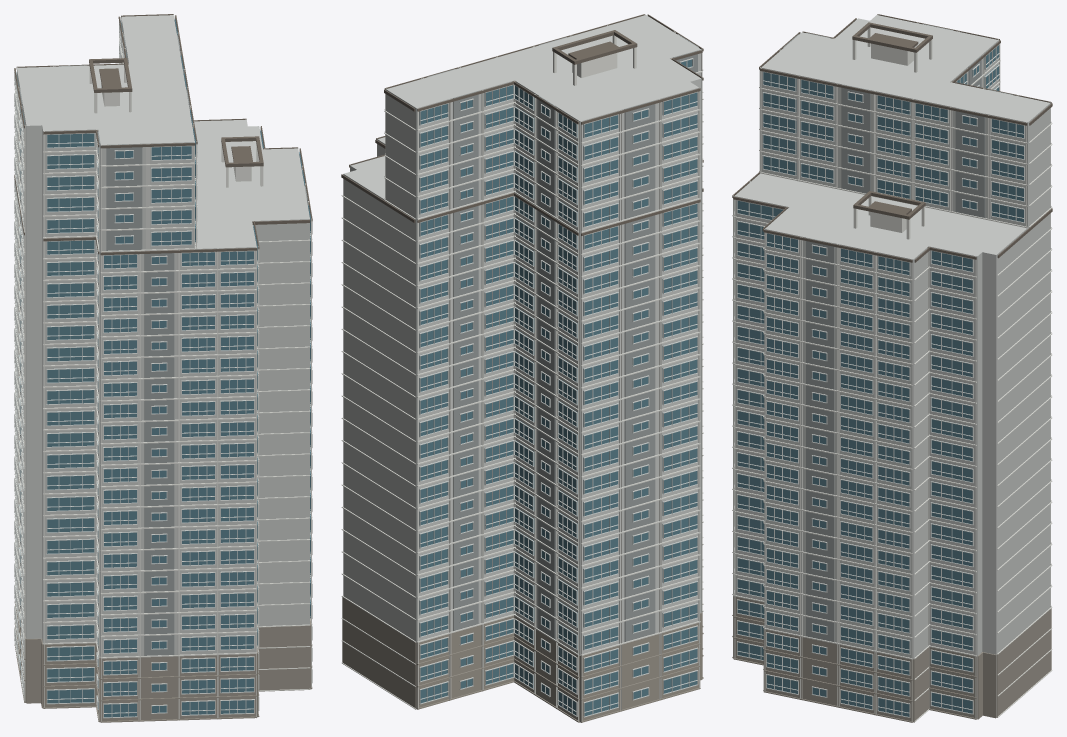
Rendered from bespoke-banpo-xi-129.glb.
3 renders of one model, left to right at view 1: azimuth 30°, elevation 25°; view 2: azimuth 150°, elevation 25°; view 3: azimuth 270°, elevation 25°, orthographic. The views are drawn at different scales.
Parts seen in each view (by area): view 1: editable_BX129_pale_silver_limestone, editable_BX129_blue_grey_broad_glazing, editable_BX129_white_window_frames, editable_BX129_ivory_course_bands, editable_BX129_grey_service_core, editable_BX129_warm_ground_stone, editable_BX129_dark_coping; view 2: editable_BX129_pale_silver_limestone, editable_BX129_blue_grey_broad_glazing, editable_BX129_white_window_frames, editable_BX129_ivory_course_bands, editable_BX129_grey_service_core, editable_BX129_warm_ground_stone, editable_BX129_dark_coping; view 3: editable_BX129_pale_silver_limestone, editable_BX129_blue_grey_broad_glazing, editable_BX129_white_window_frames, editable_BX129_ivory_course_bands, editable_BX129_grey_service_core, editable_BX129_warm_ground_stone, editable_BX129_dark_coping.
Boxes of the visible parts, x1=… form: editable_BX129_pale_silver_limestone: x1=17, y1=15, x2=309, y2=657; editable_BX129_blue_grey_broad_glazing: x1=16, y1=19, x2=310, y2=717; editable_BX129_white_window_frames: x1=14, y1=21, x2=312, y2=718; editable_BX129_ivory_course_bands: x1=14, y1=15, x2=312, y2=722; editable_BX129_grey_service_core: x1=19, y1=34, x2=307, y2=655; editable_BX129_warm_ground_stone: x1=14, y1=601, x2=312, y2=722; editable_BX129_dark_coping: x1=14, y1=14, x2=312, y2=255; editable_BX129_pale_silver_limestone: x1=343, y1=15, x2=701, y2=721; editable_BX129_blue_grey_broad_glazing: x1=419, y1=59, x2=697, y2=716; editable_BX129_white_window_frames: x1=419, y1=58, x2=698, y2=717; editable_BX129_ivory_course_bands: x1=341, y1=14, x2=703, y2=721; editable_BX129_grey_service_core: x1=427, y1=34, x2=698, y2=641; editable_BX129_warm_ground_stone: x1=342, y1=597, x2=703, y2=722; editable_BX129_dark_coping: x1=341, y1=14, x2=703, y2=235; editable_BX129_pale_silver_limestone: x1=734, y1=15, x2=1050, y2=718; editable_BX129_blue_grey_broad_glazing: x1=737, y1=45, x2=1023, y2=716; editable_BX129_white_window_frames: x1=734, y1=44, x2=1024, y2=717; editable_BX129_ivory_course_bands: x1=732, y1=14, x2=1052, y2=721; editable_BX129_grey_service_core: x1=783, y1=24, x2=1013, y2=642; editable_BX129_warm_ground_stone: x1=732, y1=596, x2=1051, y2=722; editable_BX129_dark_coping: x1=732, y1=14, x2=1052, y2=262.
Size of the model in its own units: 39.22 by 76.5 by 37.6.
